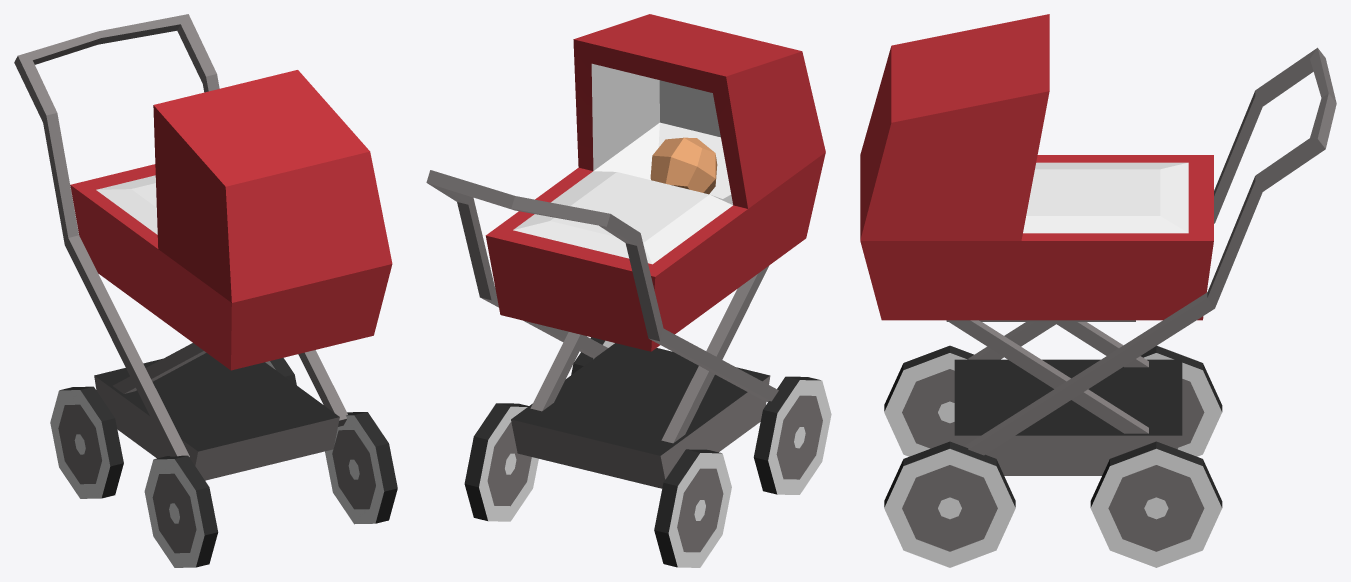
File: vehicles_baby-carriage.fbx
The picture shows the model from 3 angles, left to right: view 1: azimuth 30°, elevation 25°; view 2: azimuth 150°, elevation 25°; view 3: azimuth 270°, elevation 25°; orthographic projection. The views are drawn at different scales.
Parts seen in each view (by area): view 1: vehicles_baby_carriage; view 2: vehicles_baby_carriage; view 3: vehicles_baby_carriage.
Part boxes in pixels (left/top/right/bottom): vehicles_baby_carriage: left=14, top=14, right=397, bottom=567; vehicles_baby_carriage: left=426, top=14, right=831, bottom=567; vehicles_baby_carriage: left=860, top=14, right=1336, bottom=567.
Bounding box in the file's own units: 95.43 × 200 × 186.
